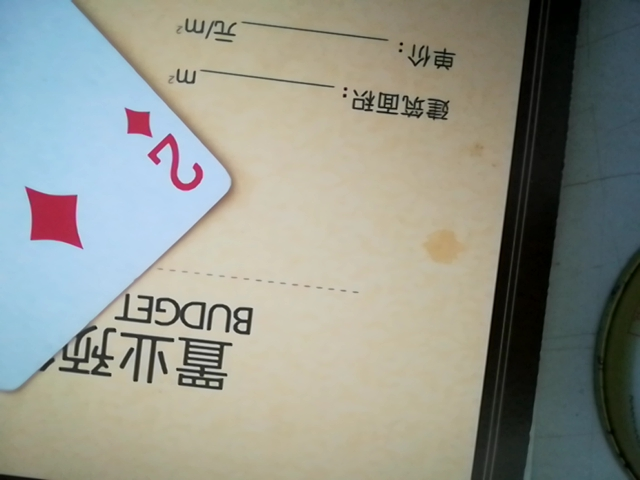fk 2: (0, 0, 237, 432)
